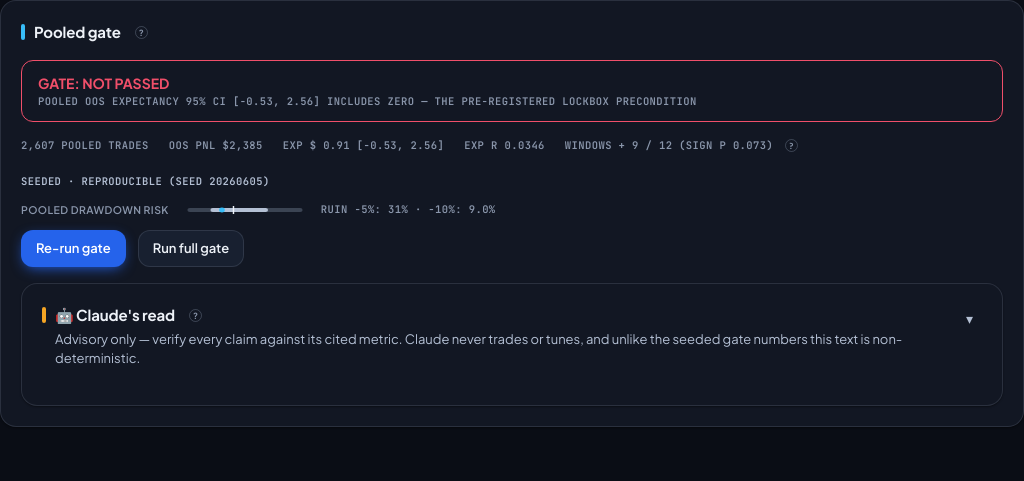
it: PooledGatePanel › shows an indeterminate running state after starting the full gate
The width and height of the screenshot is (1024, 481).
Click the button "Run full gate" at point(191, 248), box [138,230,244,267]
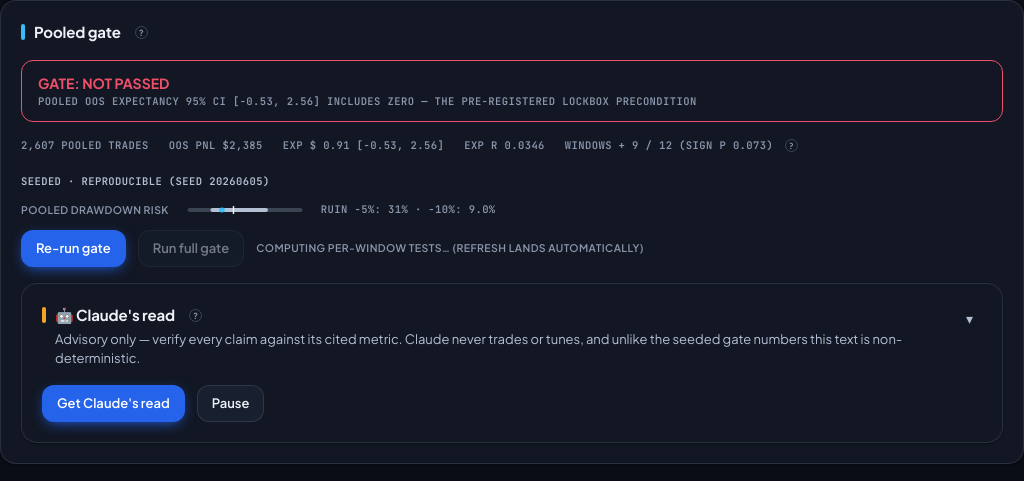
Expected: the text "computing per-window tests… (refresh lands automatically)" is shown, [256,240,644,256]
